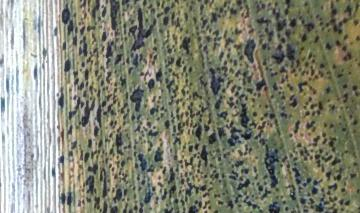tarspot: (129, 6, 158, 54), (263, 142, 282, 191), (239, 100, 253, 142), (129, 83, 147, 113), (207, 64, 223, 95), (108, 1, 121, 34), (79, 97, 93, 127), (226, 123, 241, 149), (271, 42, 286, 66), (243, 37, 256, 64), (135, 150, 150, 173), (55, 84, 67, 112), (242, 194, 262, 210), (100, 167, 110, 198), (60, 1, 72, 26), (77, 34, 89, 58), (180, 32, 193, 54), (115, 131, 125, 159), (275, 9, 286, 34), (84, 174, 97, 195), (183, 180, 199, 197), (152, 144, 166, 163), (234, 67, 253, 81), (326, 134, 339, 154), (176, 118, 191, 135), (285, 42, 297, 63), (200, 143, 210, 167), (236, 178, 253, 191), (166, 164, 176, 186), (289, 164, 303, 179), (102, 102, 116, 117), (189, 88, 204, 102), (330, 20, 344, 35), (310, 133, 322, 150), (143, 189, 156, 204), (267, 200, 282, 213), (297, 78, 310, 93), (63, 56, 73, 75), (90, 1, 100, 20), (198, 71, 209, 88), (146, 103, 160, 116), (57, 190, 67, 208), (93, 102, 102, 122), (209, 9, 221, 24), (66, 189, 75, 208), (104, 42, 114, 59), (255, 16, 272, 26), (182, 154, 195, 167), (165, 78, 177, 92), (50, 23, 61, 38), (192, 123, 203, 138), (288, 15, 299, 30), (207, 130, 218, 145), (292, 117, 301, 135), (65, 122, 75, 138), (214, 93, 224, 109), (111, 185, 121, 201), (329, 155, 342, 167), (232, 25, 245, 37), (223, 36, 236, 48), (343, 4, 355, 17), (254, 78, 268, 89), (86, 162, 100, 173), (196, 2, 207, 16), (154, 66, 164, 81), (172, 133, 182, 148), (146, 129, 162, 138), (226, 196, 235, 212), (313, 201, 325, 213), (117, 75, 129, 87), (233, 157, 246, 168), (328, 7, 341, 18), (315, 98, 326, 111), (56, 150, 66, 164), (114, 51, 124, 65), (340, 92, 350, 106), (82, 66, 91, 81), (324, 168, 333, 183), (217, 48, 226, 63), (278, 109, 290, 120), (305, 118, 316, 130), (313, 175, 324, 187), (211, 27, 223, 38), (168, 185, 180, 196), (66, 148, 76, 161), (323, 39, 333, 52), (311, 32, 321, 45), (118, 157, 128, 170), (339, 80, 350, 91), (49, 163, 57, 178), (119, 102, 129, 114), (304, 20, 316, 30), (342, 50, 352, 62), (250, 163, 260, 175), (162, 204, 175, 213), (100, 30, 109, 43), (187, 204, 200, 213), (268, 109, 277, 122), (255, 182, 264, 195), (92, 125, 100, 139), (61, 39, 69, 53), (162, 13, 170, 27), (205, 111, 213, 125), (132, 51, 139, 67), (66, 109, 77, 119), (217, 109, 228, 119), (299, 31, 309, 42), (339, 123, 349, 134), (303, 174, 313, 185), (245, 85, 255, 96), (259, 56, 270, 66), (170, 151, 180, 162), (347, 171, 359, 180), (295, 139, 304, 151), (343, 197, 352, 209), (224, 99, 236, 108), (193, 139, 200, 154), (105, 70, 112, 85), (83, 150, 91, 163), (71, 34, 79, 47), (175, 55, 183, 68), (271, 79, 279, 92), (321, 120, 329, 133), (144, 119, 154, 129), (310, 185, 320, 195), (164, 45, 174, 55), (104, 92, 114, 102), (86, 23, 97, 32), (71, 76, 80, 87), (250, 109, 261, 118), (351, 16, 360, 27), (293, 176, 302, 187), (96, 139, 107, 148), (279, 64, 288, 75), (155, 180, 166, 189), (172, 105, 183, 114), (351, 159, 360, 170), (329, 119, 336, 133), (109, 205, 121, 213), (318, 60, 326, 72), (324, 83, 332, 95), (129, 111, 137, 123), (121, 186, 130, 196), (163, 119, 172, 129), (162, 4, 172, 13), (290, 98, 299, 108), (333, 38, 342, 48), (313, 151, 322, 161), (351, 118, 360, 128), (260, 41, 270, 50), (303, 108, 312, 118), (80, 89, 89, 99), (84, 196, 95, 204), (330, 60, 338, 71), (299, 196, 307, 207), (212, 170, 220, 181), (187, 142, 194, 154), (183, 9, 189, 23), (240, 166, 249, 175), (236, 84, 245, 93), (92, 67, 101, 76), (86, 138, 94, 148), (216, 199, 226, 207), (349, 84, 359, 92), (139, 177, 147, 187), (179, 87, 187, 97), (227, 172, 235, 182), (309, 100, 317, 110), (107, 118, 115, 128), (102, 200, 108, 213), (233, 1, 244, 8), (124, 55, 132, 64), (186, 65, 195, 73), (199, 183, 207, 192), (122, 205, 131, 213), (215, 154, 223, 163), (250, 120, 258, 129), (283, 204, 291, 213), (138, 69, 145, 79), (339, 186, 349, 193), (353, 33, 360, 43), (72, 92, 79, 102), (71, 69, 79, 77), (131, 202, 139, 210), (261, 110, 269, 118), (279, 93, 286, 102), (137, 206, 146, 213), (291, 155, 300, 162), (79, 24, 84, 35), (283, 1, 292, 7), (203, 172, 209, 181), (355, 185, 360, 195)
